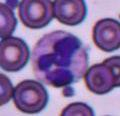N: (31, 29, 88, 86)
